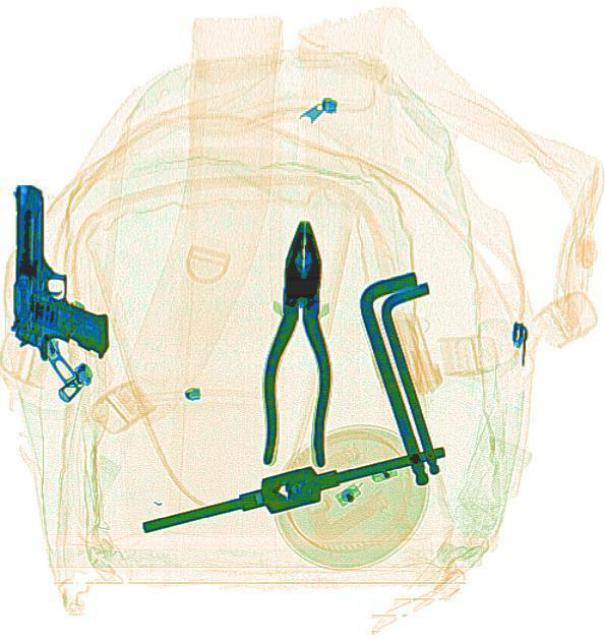Gun: (7, 181, 113, 361)
Pliers: (258, 218, 337, 466)
